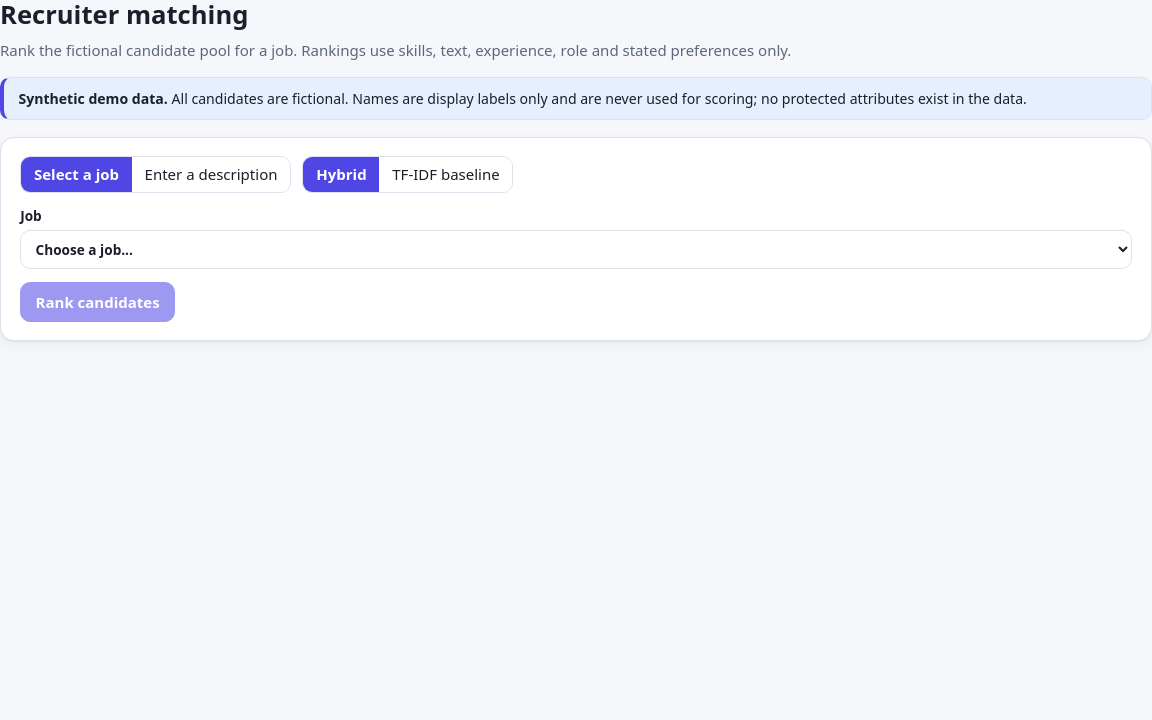
Recruiter page › ranks candidates for a selected job and explains the order
Expected: the button "Rank candidates" is disabled, [20, 282, 175, 322]
Select "Job 1 - Acme (fictional)" in the dropdown labelled "Job" at [576, 250], box [20, 230, 1132, 269]
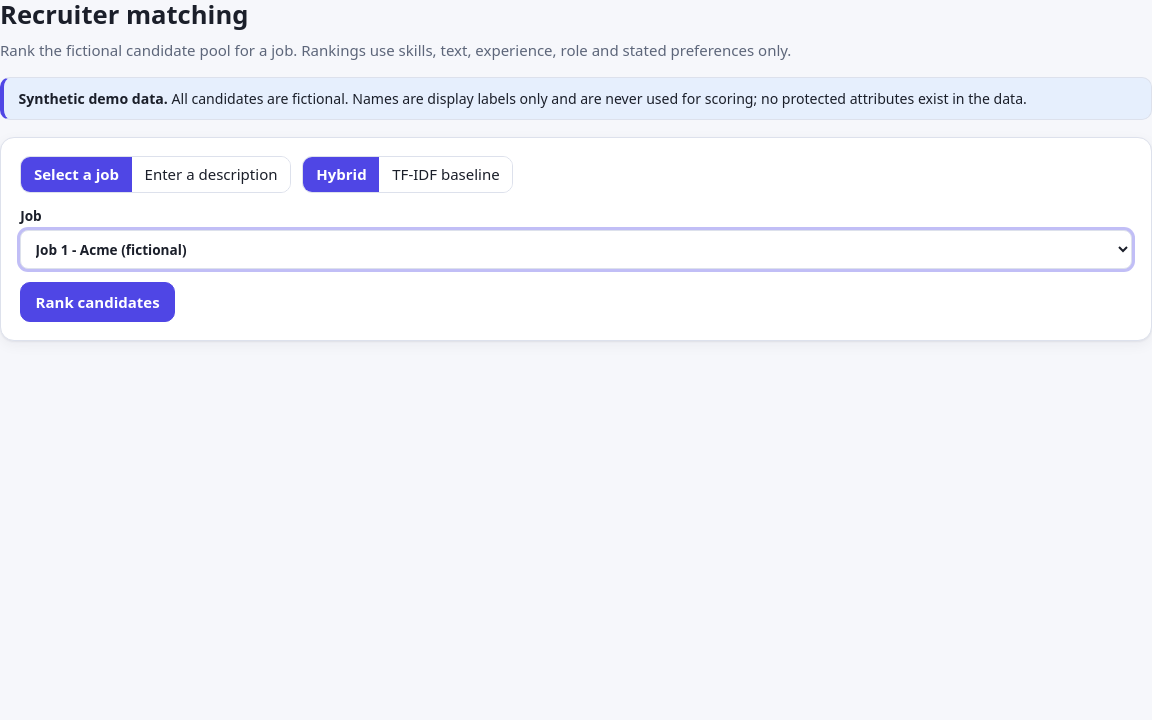
Result: the button "Rank candidates" is enabled
Click the button "Rank candidates" at [98, 302], box [20, 282, 175, 322]
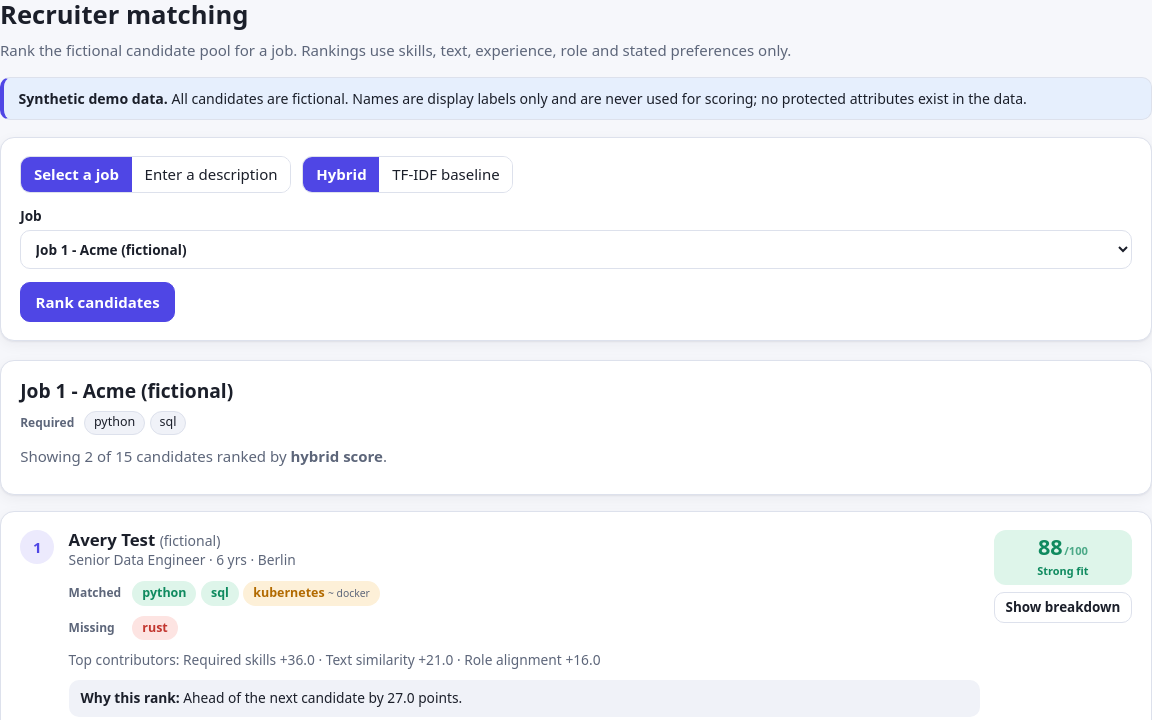
Result: the heading "Avery Test (fictional)" is shown at [69, 528, 220, 551]
Result: the list item shows "Avery Test" at [69, 528, 155, 551]
